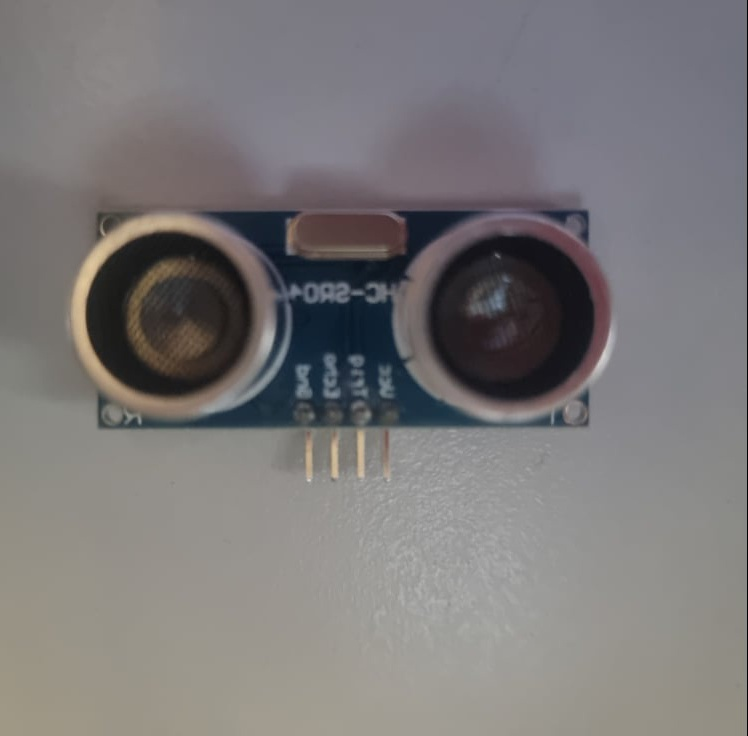SENSOR: (67, 206, 626, 483)
